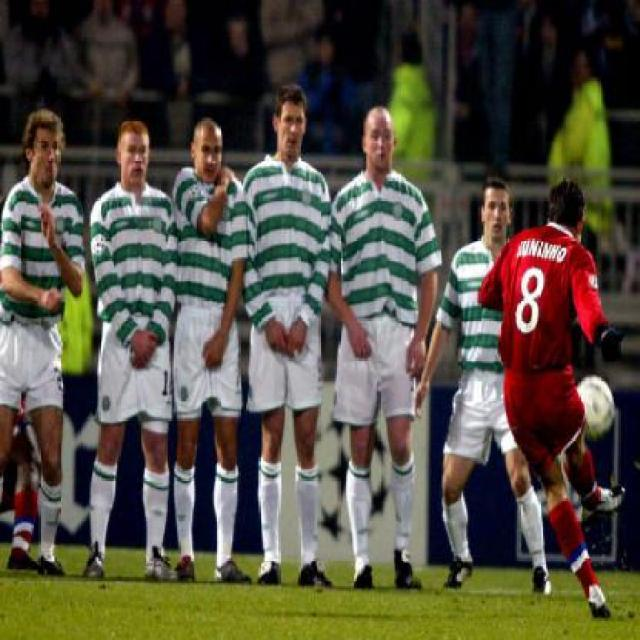ball: (575, 372, 617, 438)
player: (499, 176, 630, 627), (326, 106, 437, 589), (426, 189, 543, 586), (239, 81, 330, 587), (85, 121, 182, 587), (0, 113, 86, 576), (176, 113, 241, 587)
